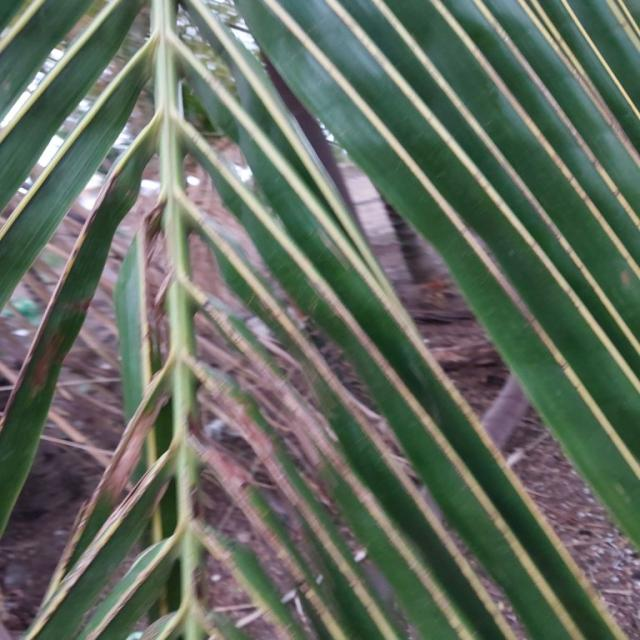gray leaf spot: (197, 293, 356, 498), (195, 363, 333, 534), (202, 437, 306, 585)
